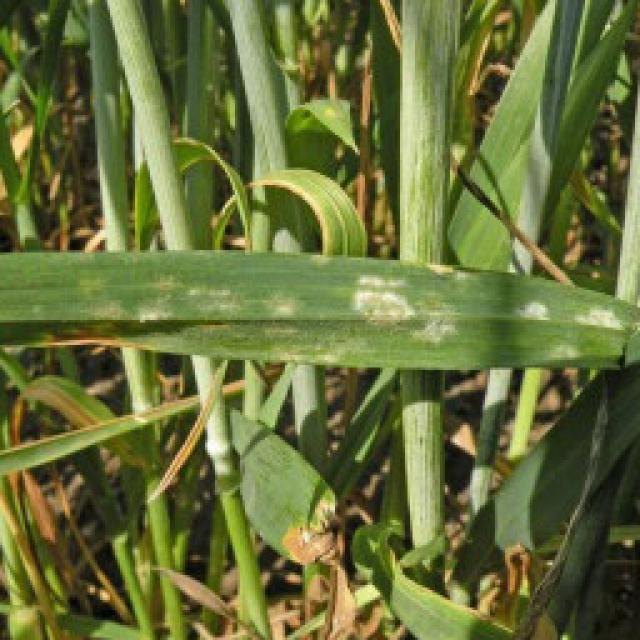wheat-powdery-mildew: (0, 251, 640, 371)
